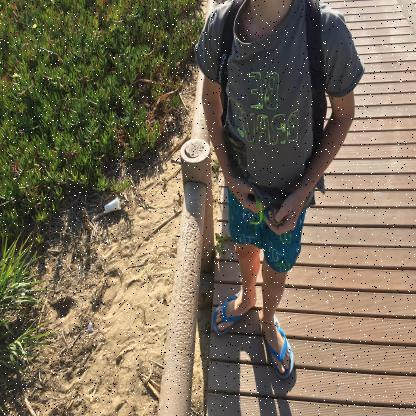cardboard: (104, 198, 121, 214)
